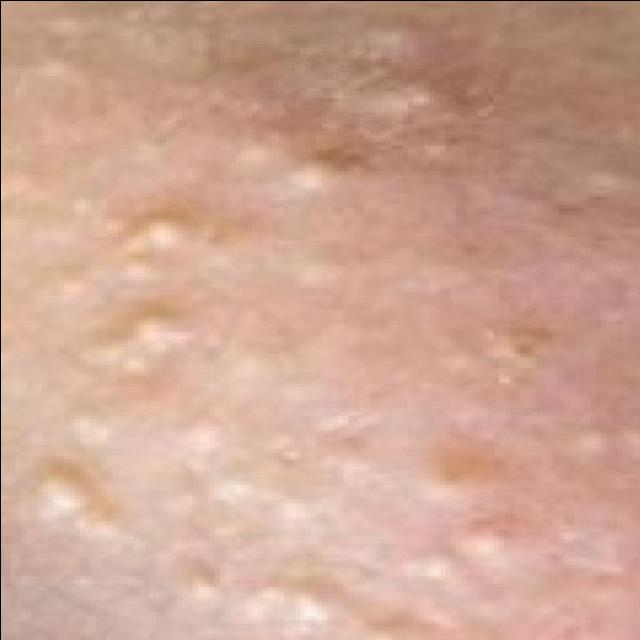whitehead: (0, 71, 640, 640)
